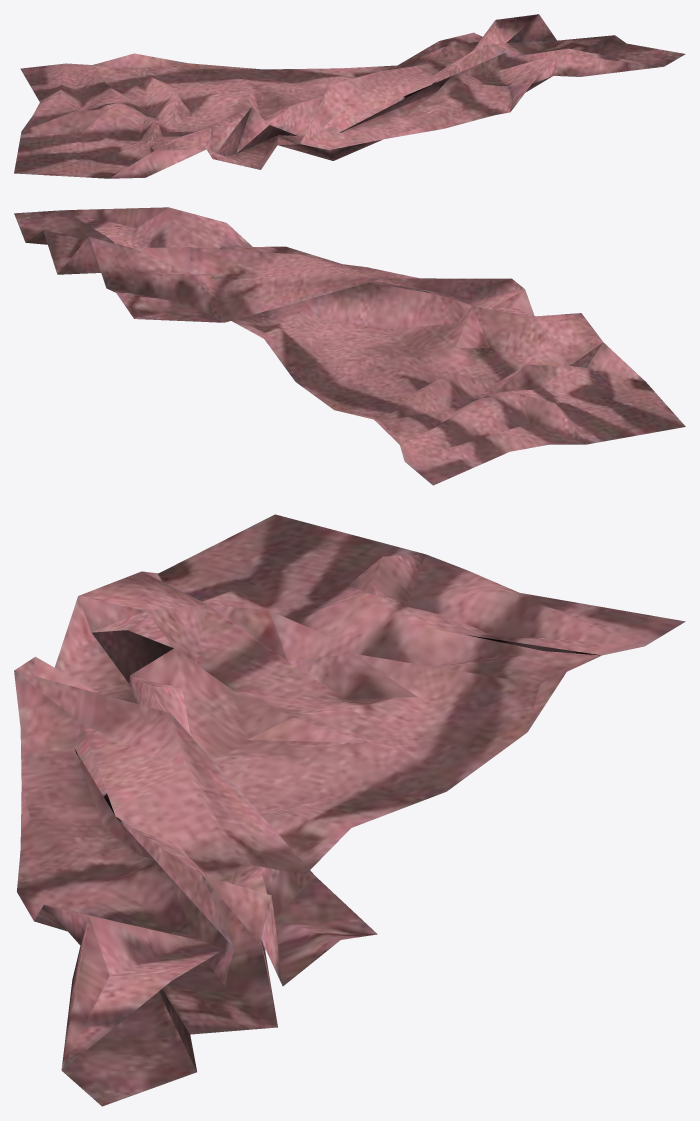
The model's file is rag_towel_pink_0_lod1_web.glb.
3 views of the same model, one above another, from view 1: azimuth 30°, elevation 25°; view 2: azimuth 150°, elevation 25°; view 3: azimuth 270°, elevation 25° (orthographic). The views are drawn at different scales.
Visible parts, largest first — view 1: rag_towel_pink_0_Cloth; view 2: rag_towel_pink_0_Cloth; view 3: rag_towel_pink_0_Cloth.
Boxes of the visible parts, box(x1,y1,x2,y2) form: rag_towel_pink_0_Cloth: box(14, 14, 685, 178); rag_towel_pink_0_Cloth: box(14, 207, 685, 485); rag_towel_pink_0_Cloth: box(14, 514, 685, 1106).
Size of the model in its own units: 1.02 by 0.0636 by 0.4919.
1 material, 1 textured.
